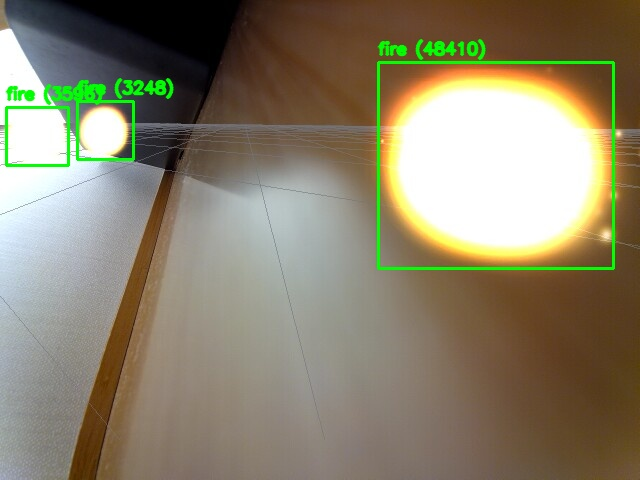fire: (378, 62, 613, 268), (6, 107, 68, 165), (77, 101, 133, 159)
